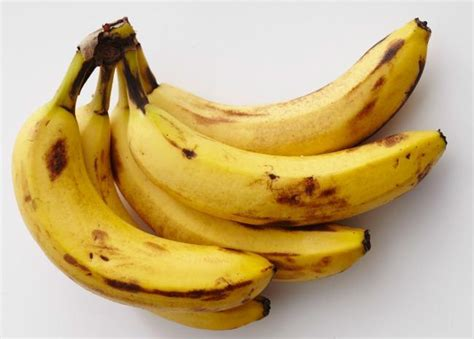banana: (8, 103, 276, 310), (144, 16, 438, 164), (124, 99, 448, 231)
